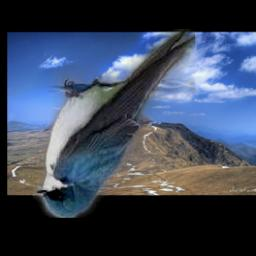Swallow: (34, 29, 196, 218)
